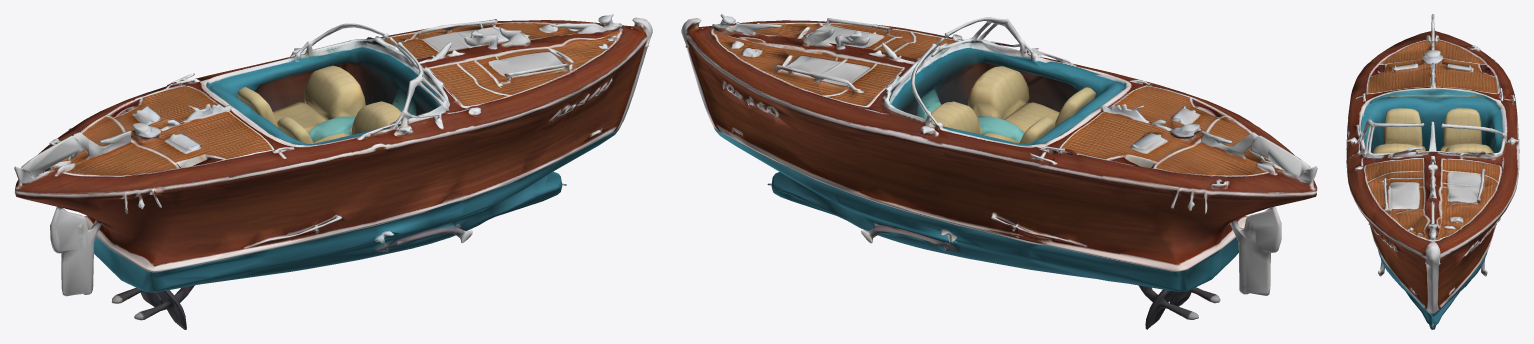
The model's file is veh_riva_speedboat.glb.
3 views of the same model, side by side, from view 1: azimuth 30°, elevation 25°; view 2: azimuth 150°, elevation 25°; view 3: azimuth 270°, elevation 25° (orthographic). The views are drawn at different scales.
Parts seen in each view (by area): view 1: tripo_node_e7432419-26f2-4742-a251-85249570ca2b; view 2: tripo_node_e7432419-26f2-4742-a251-85249570ca2b; view 3: tripo_node_e7432419-26f2-4742-a251-85249570ca2b.
Part boxes in pixels (<box>): tripo_node_e7432419-26f2-4742-a251-85249570ca2b: <box>14,14,652,329</box>; tripo_node_e7432419-26f2-4742-a251-85249570ca2b: <box>681,14,1317,329</box>; tripo_node_e7432419-26f2-4742-a251-85249570ca2b: <box>1346,14,1519,329</box>.
Size of the model in its own units: 0.9998 by 0.3379 by 0.3147.
Materials: 1 (1 with a texture image).
